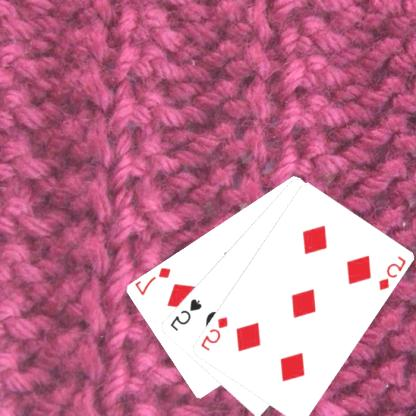5D: (199, 314, 231, 352), (377, 254, 409, 292)
5S: (169, 296, 204, 332)
7D: (134, 265, 174, 297)
